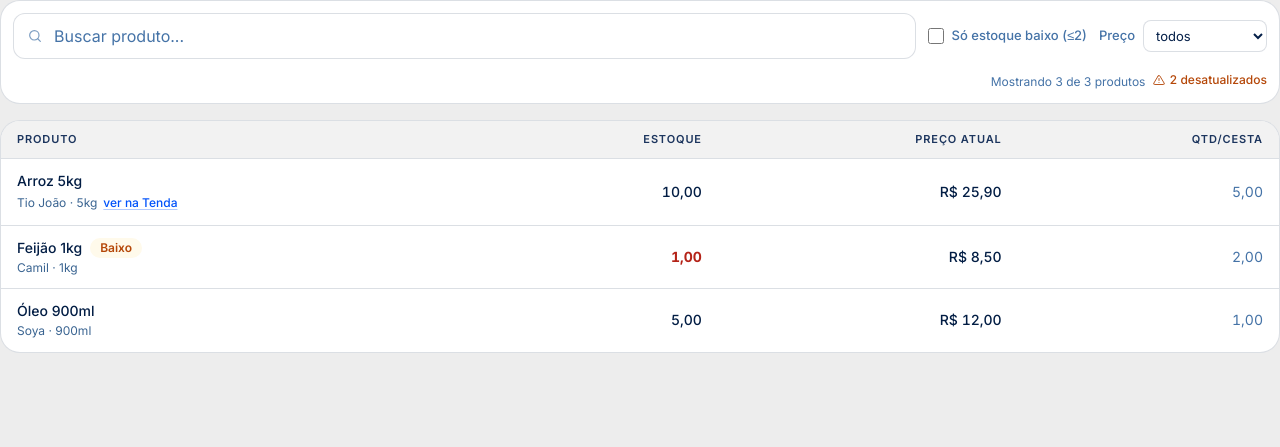
Test: EstoqueClient › exibe estado vazio quando nenhum produto corresponde
This screenshot has width=1280, height=447.
In the field named "buscar por nome ou marca": (464, 36) [13, 13, 916, 59], type "Inexistente"
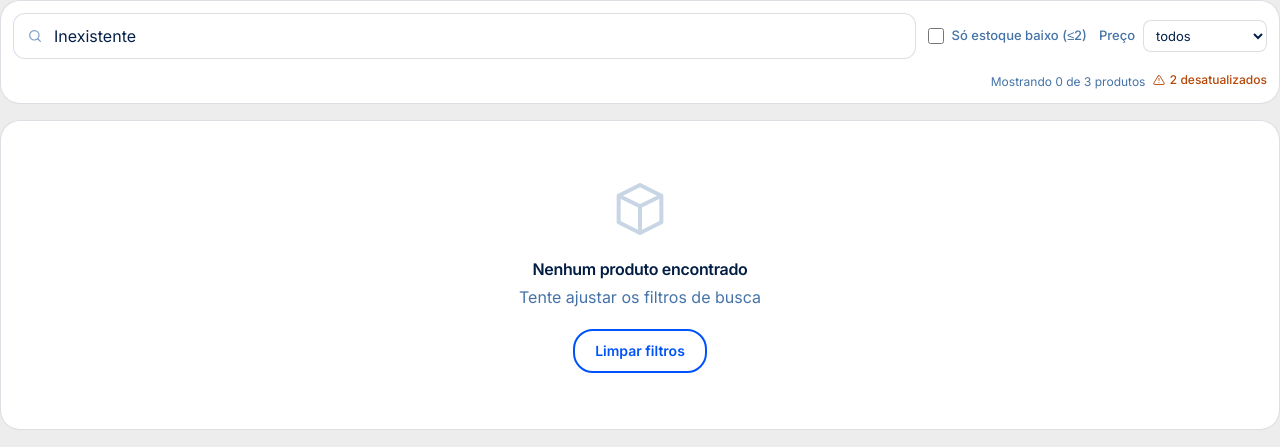
Check: the heading "Nenhum produto encontrado" is shown, box [532, 259, 748, 279]
